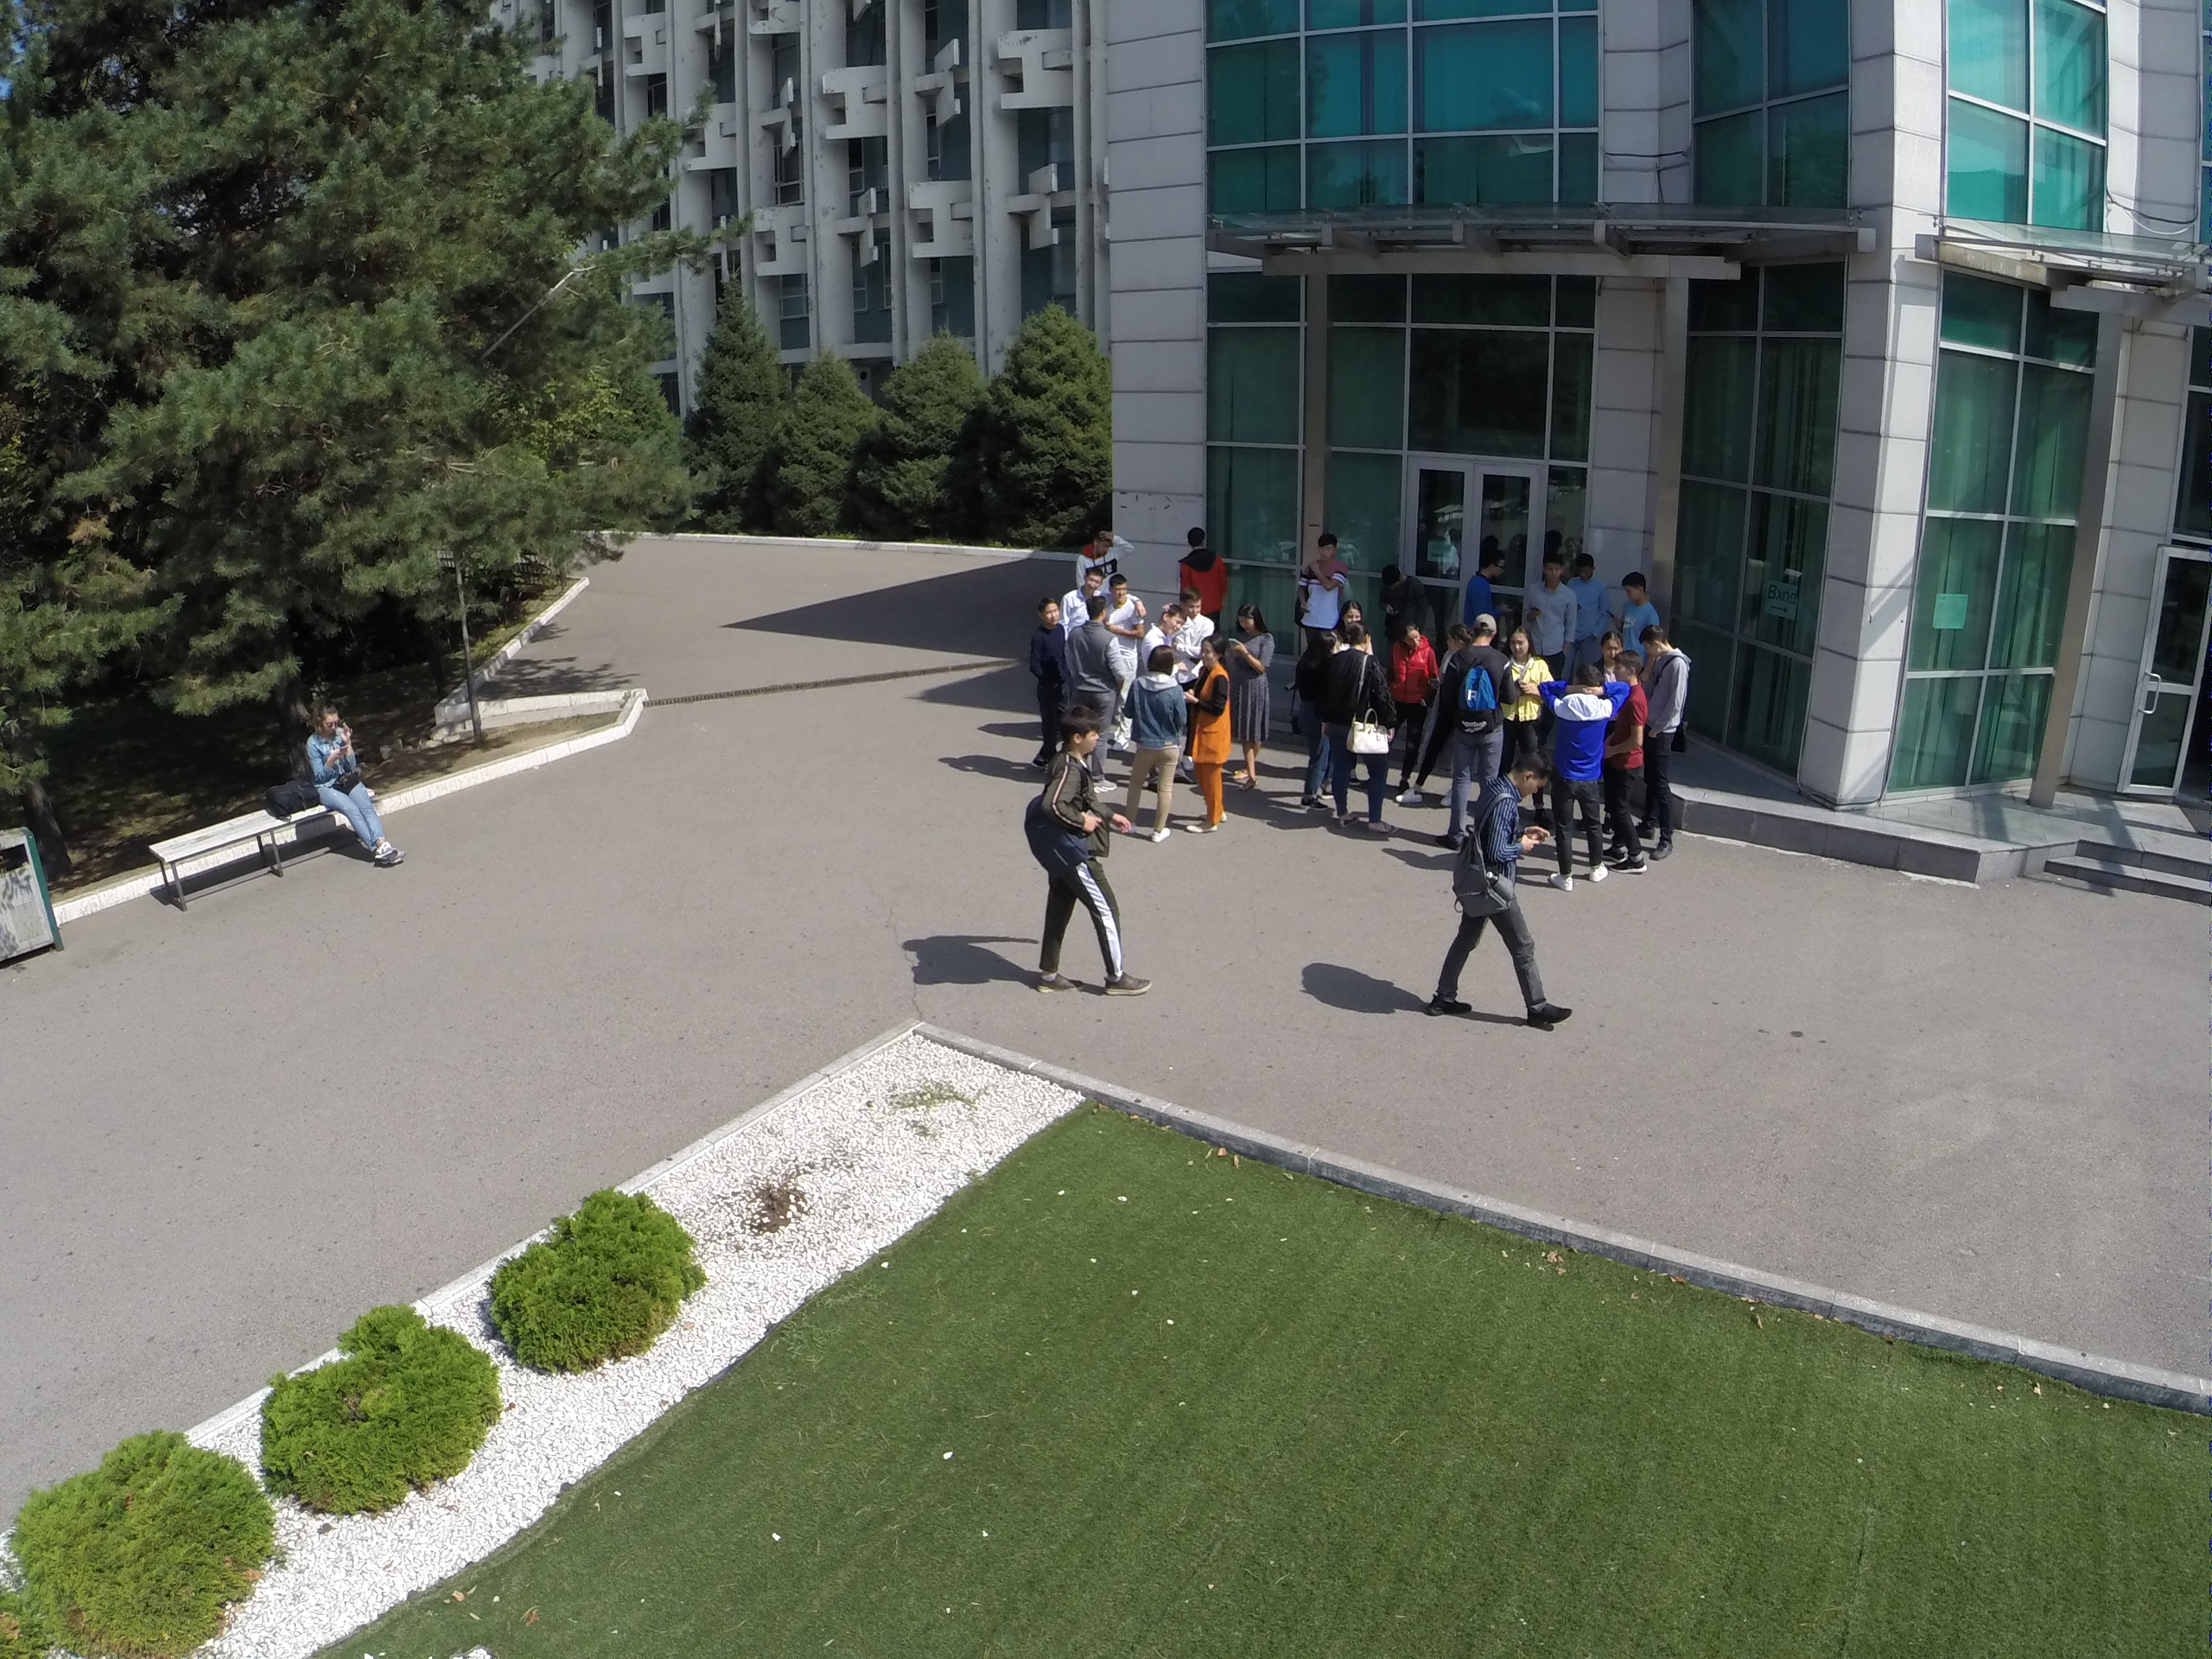person: (1433, 746, 1573, 1042), (1029, 709, 1157, 1009), (302, 695, 412, 880), (1324, 627, 1392, 829), (1129, 643, 1184, 853), (1604, 671, 1655, 882), (1649, 631, 1698, 847), (1493, 616, 1556, 774), (1564, 660, 1607, 879), (1074, 598, 1123, 784), (1232, 607, 1277, 799), (1182, 635, 1225, 832), (1385, 621, 1435, 765), (1022, 608, 1075, 738), (1296, 531, 1352, 640), (1554, 553, 1614, 643), (1531, 556, 1574, 658), (1463, 544, 1506, 626), (1179, 534, 1223, 613), (1382, 569, 1433, 630), (1084, 531, 1134, 590), (1108, 575, 1147, 650), (1611, 575, 1652, 644)
